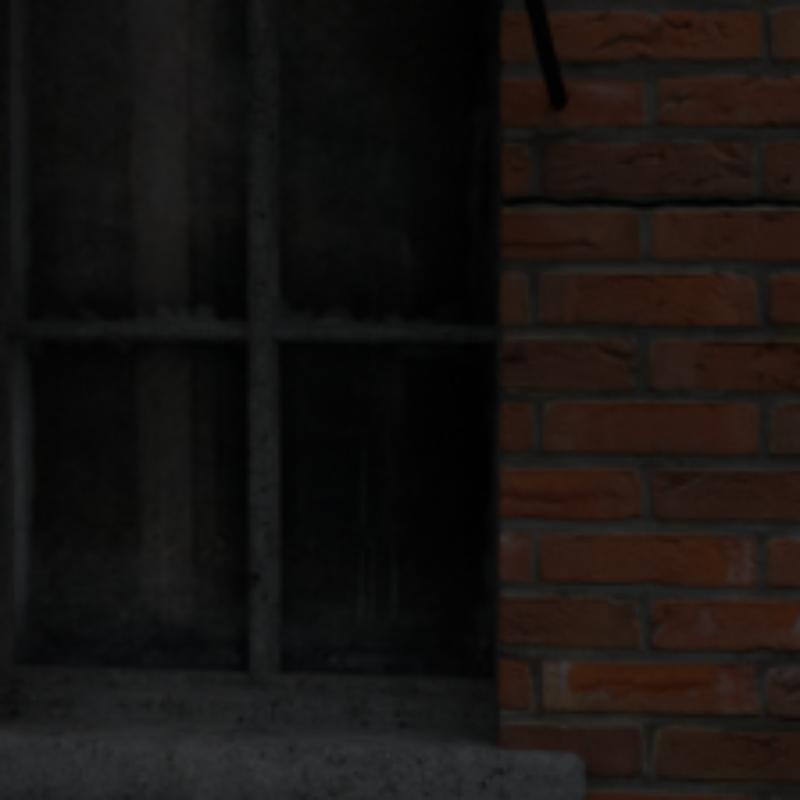pothole: (503, 195, 799, 206)
